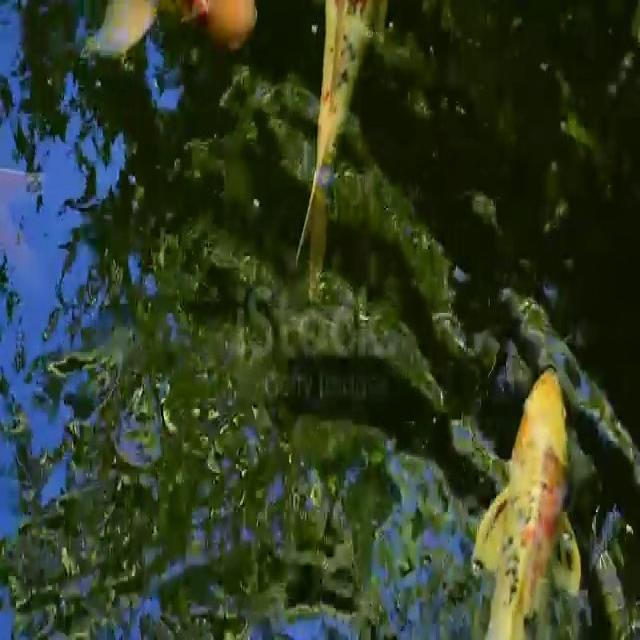fish: (286, 0, 404, 320), (469, 342, 579, 640)
